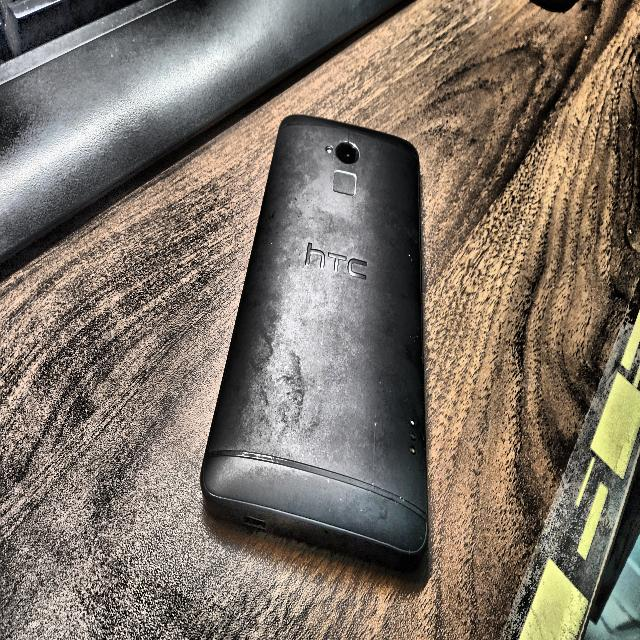PHONE: (201, 116, 429, 571)
